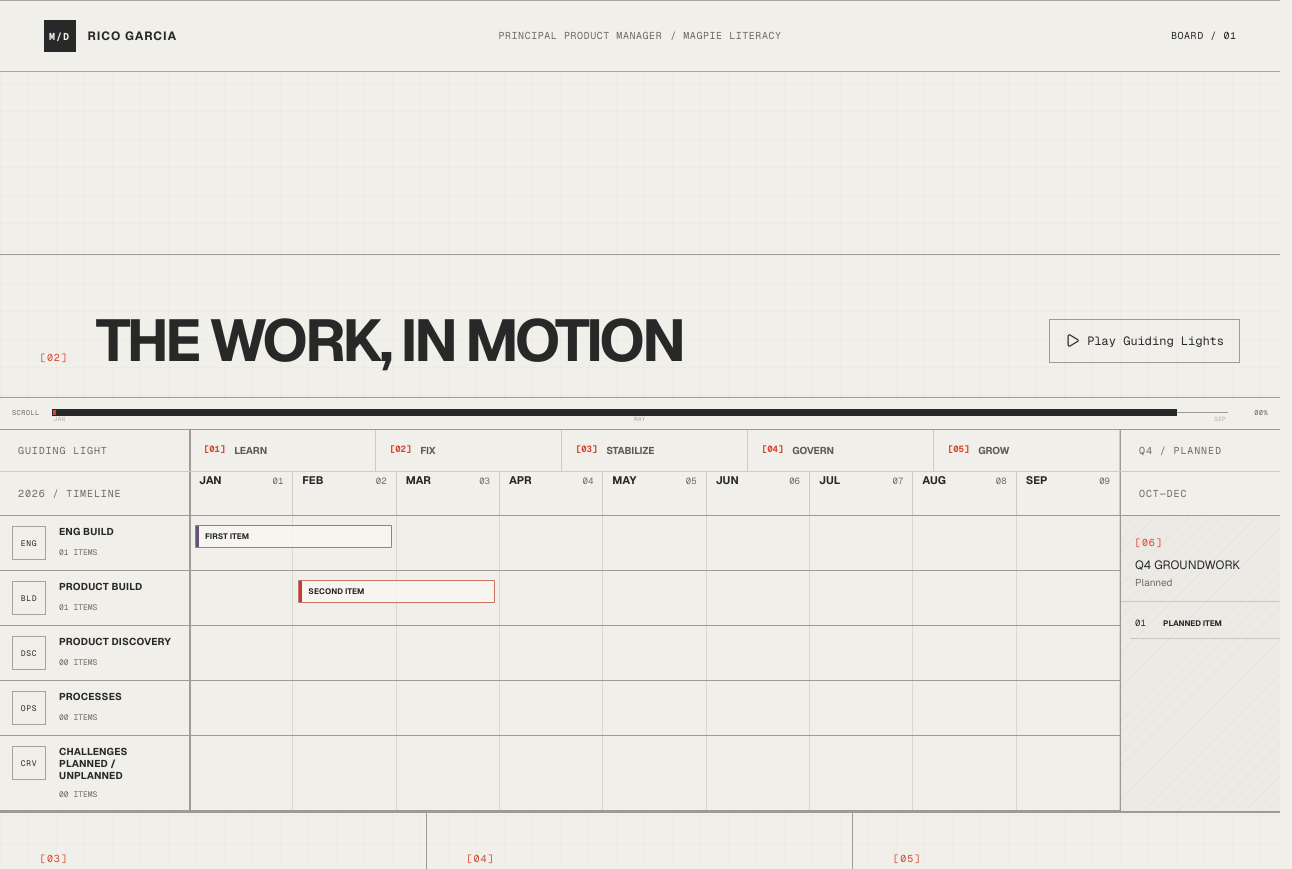
Test: PublicTimeline Guiding Light narrative › shows Grow's conclusion and offers explicit replay or exploration after finishing
This screenshot has width=1292, height=869.
(page scrolled)
Click the button "[05] Grow" at (1027,450), box [934, 430, 1120, 471]
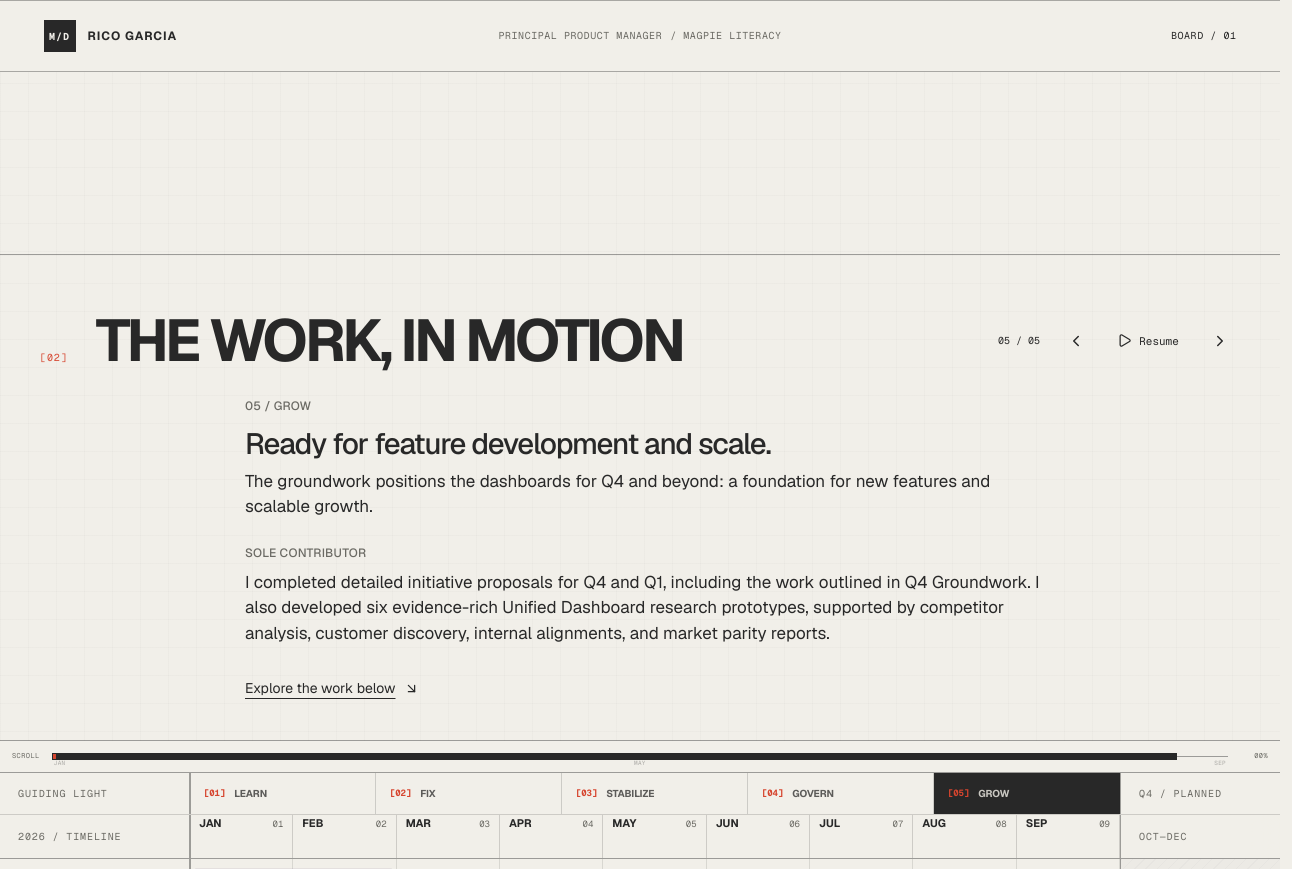
Check: the heading "Ready for feature development and scale." is shown, box [245, 424, 771, 463]
Check: the text "The groundwork positions the dashboards for Q4 and beyond: a foundation for new features and scalable growth." is shown, box [245, 470, 990, 517]
Check: the text "competitor analysis, customer discovery, internal alignments, and market parity reports." is shown, box [245, 570, 1040, 644]
Click the button named "Finish Guiding Lights" at (1220,341), box [1200, 319, 1240, 363]
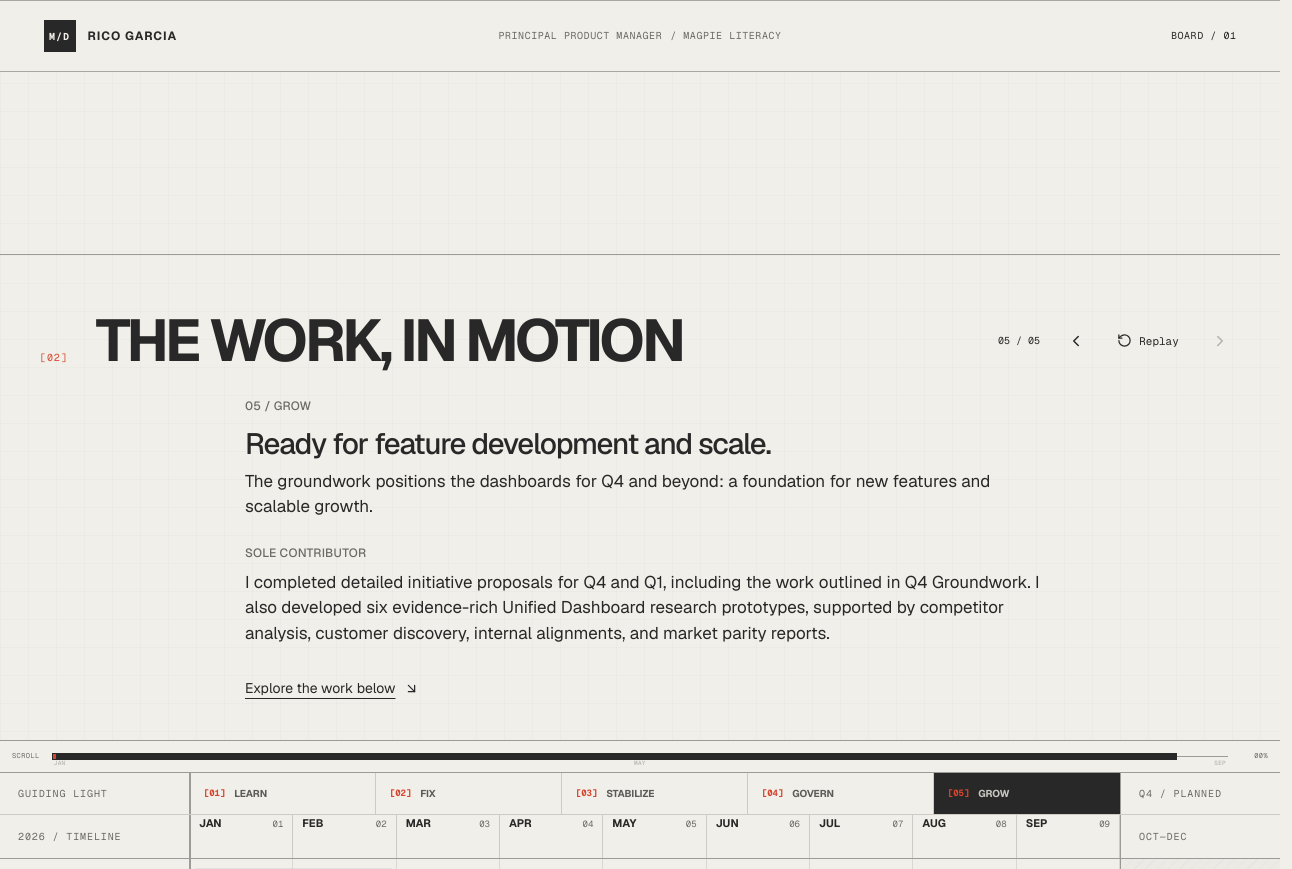
Check: the button with aria-label "Replay Guiding Lights" is shown
Click the button with aria-label "Replay Guiding Lights" at (1148,341), box [1102, 319, 1194, 363]
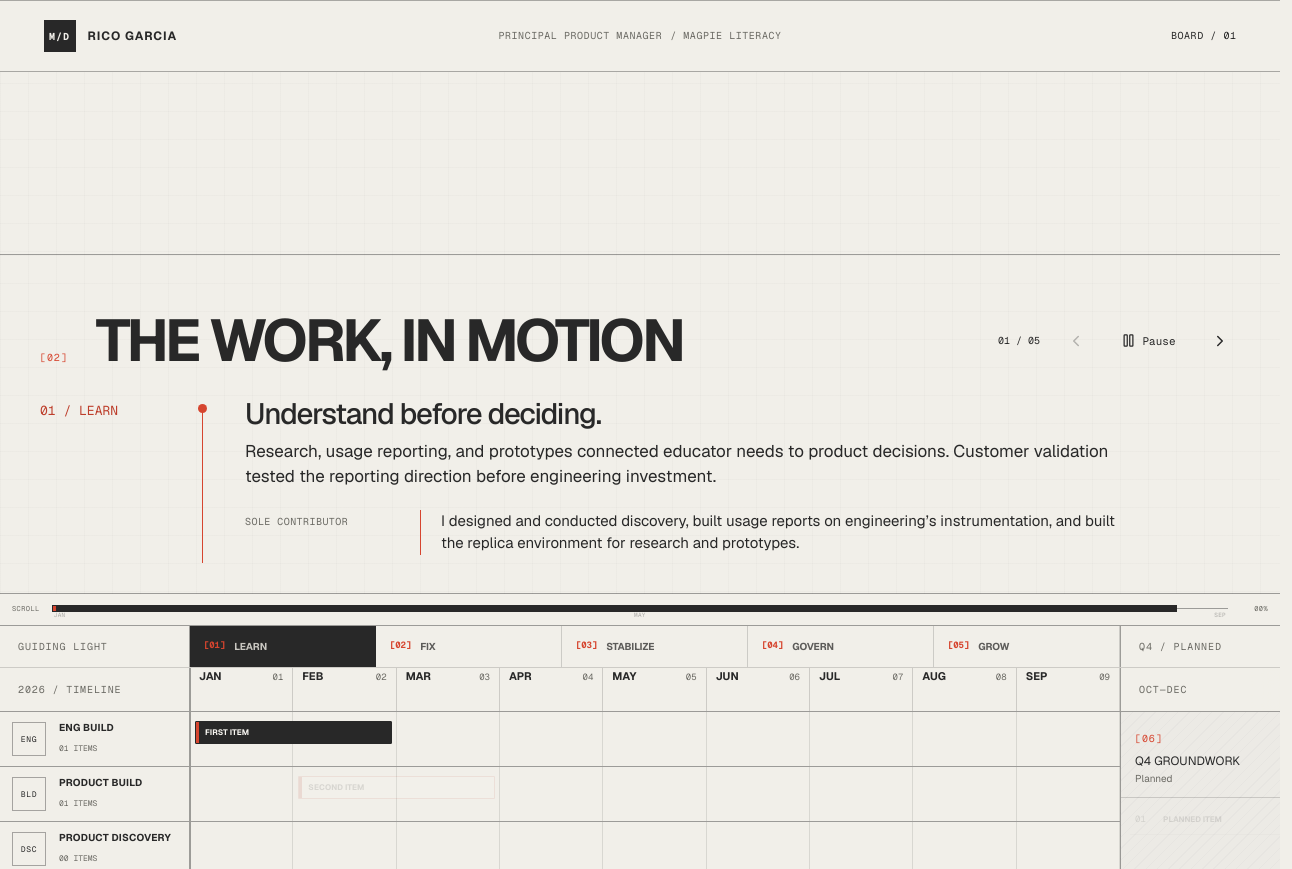
Check: the button with aria-label "Pause Guiding Lights" is shown, box [1102, 319, 1194, 363]
Check: the button "Explore the work below" is gone
